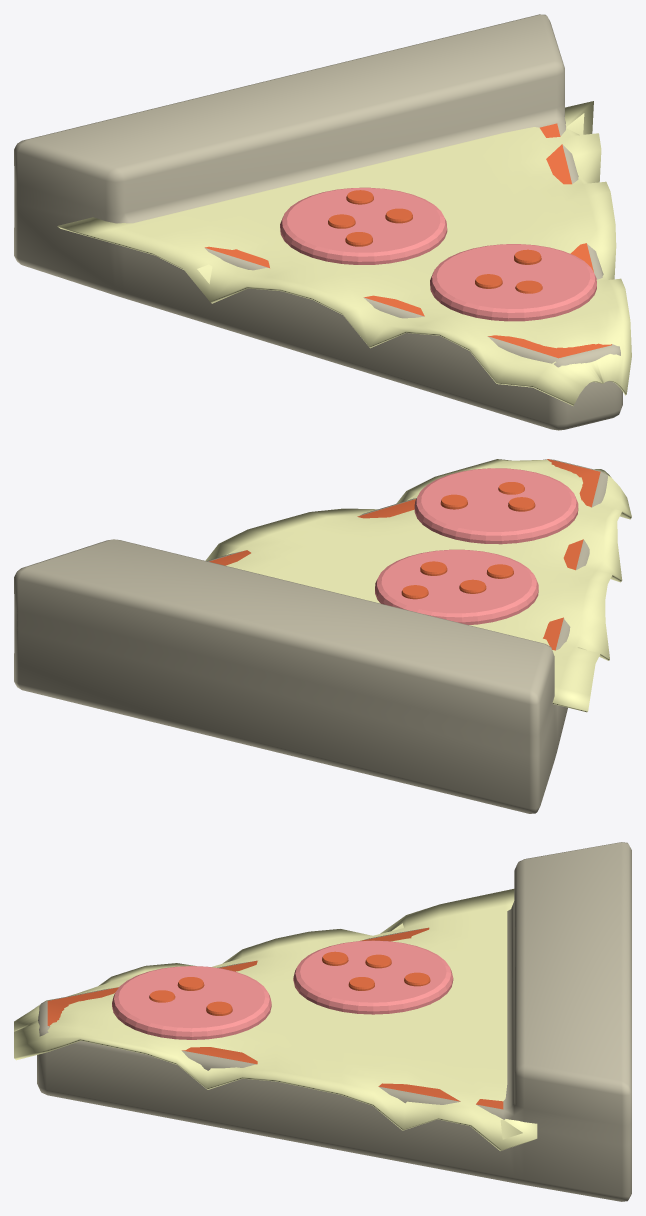
Rendered from pizza.fbx.
3 views of the same model, one above another, from view 1: azimuth 30°, elevation 25°; view 2: azimuth 150°, elevation 25°; view 3: azimuth 270°, elevation 25° (orthographic). The views are drawn at different scales.
Parts seen in each view (by area): view 1: Plane; view 2: Plane; view 3: Plane.
Part boxes in pixels (<box>): Plane: <box>14,14,631,430</box>; Plane: <box>14,459,631,813</box>; Plane: <box>14,842,631,1201</box>.
Bounding box in the file's own units: 65.65 × 14.77 × 68.52.
